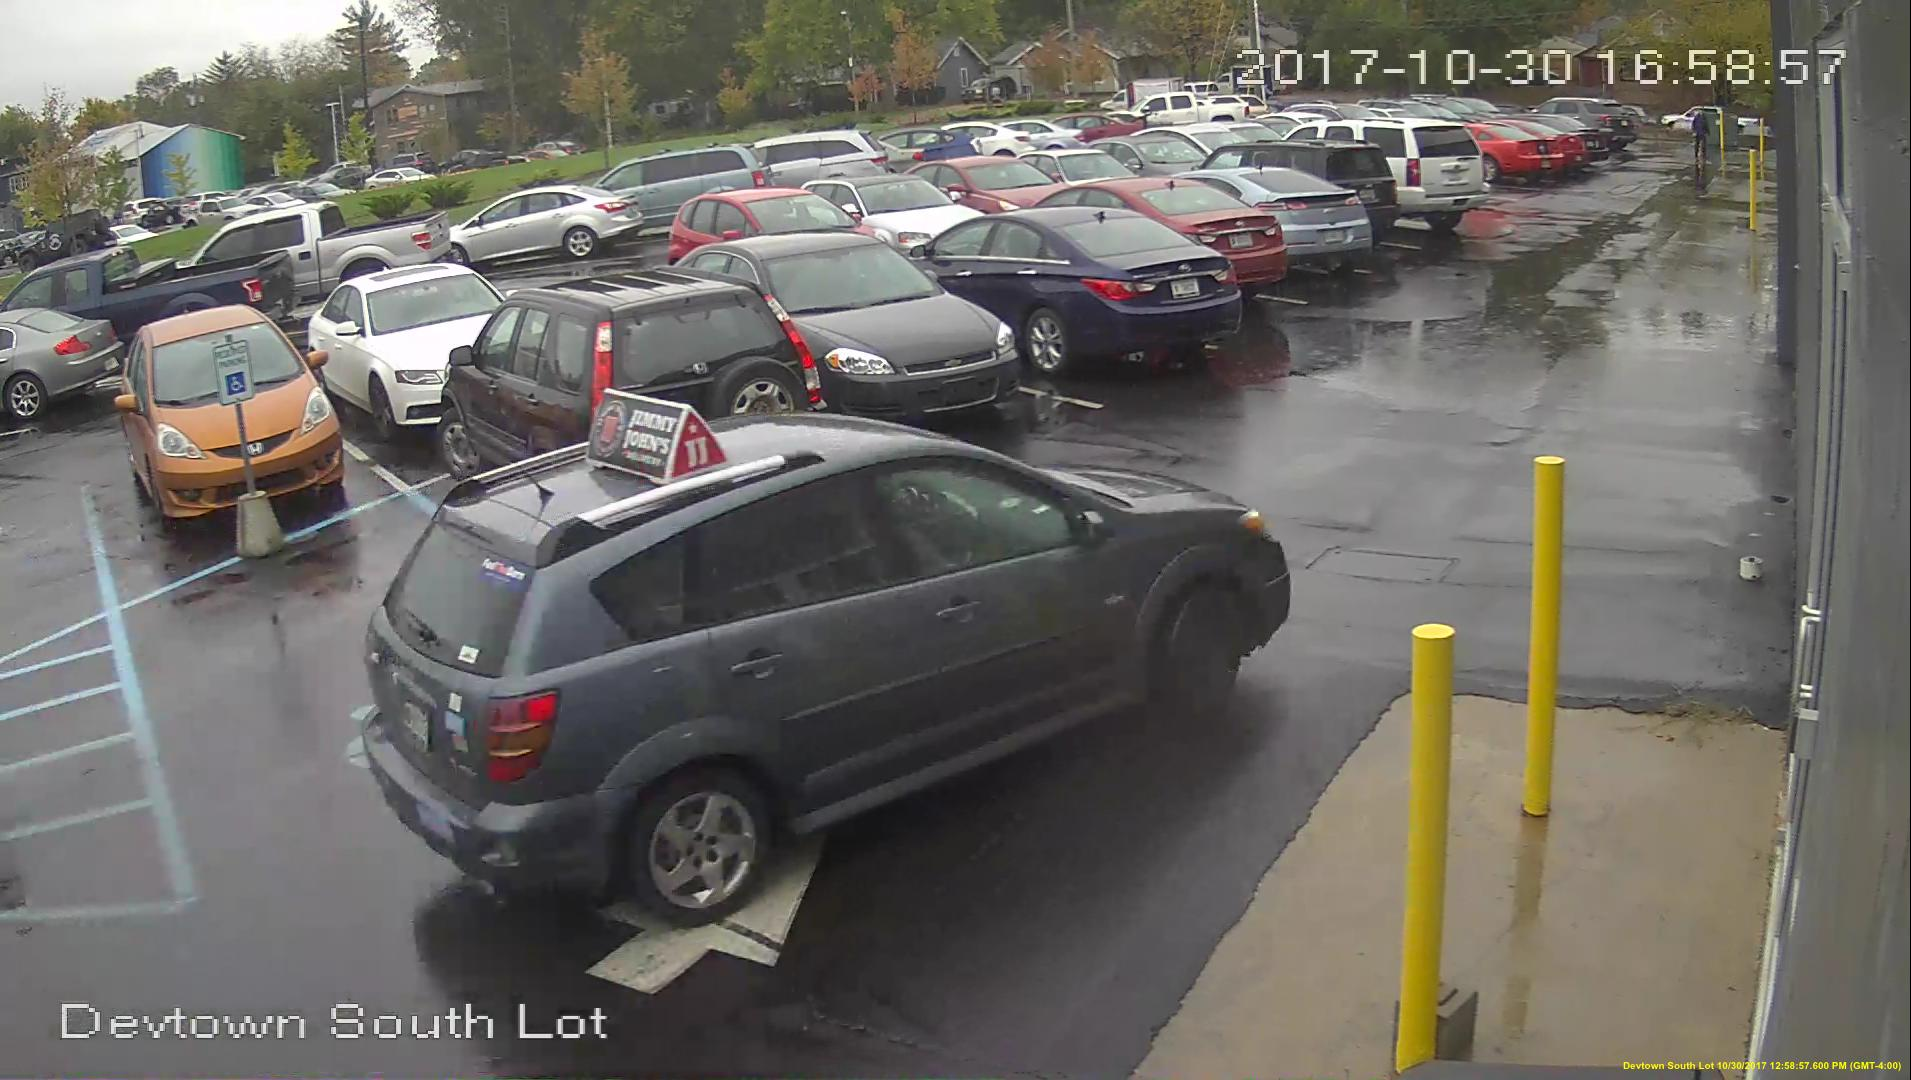jimmy_johns: (587, 383, 726, 493)
